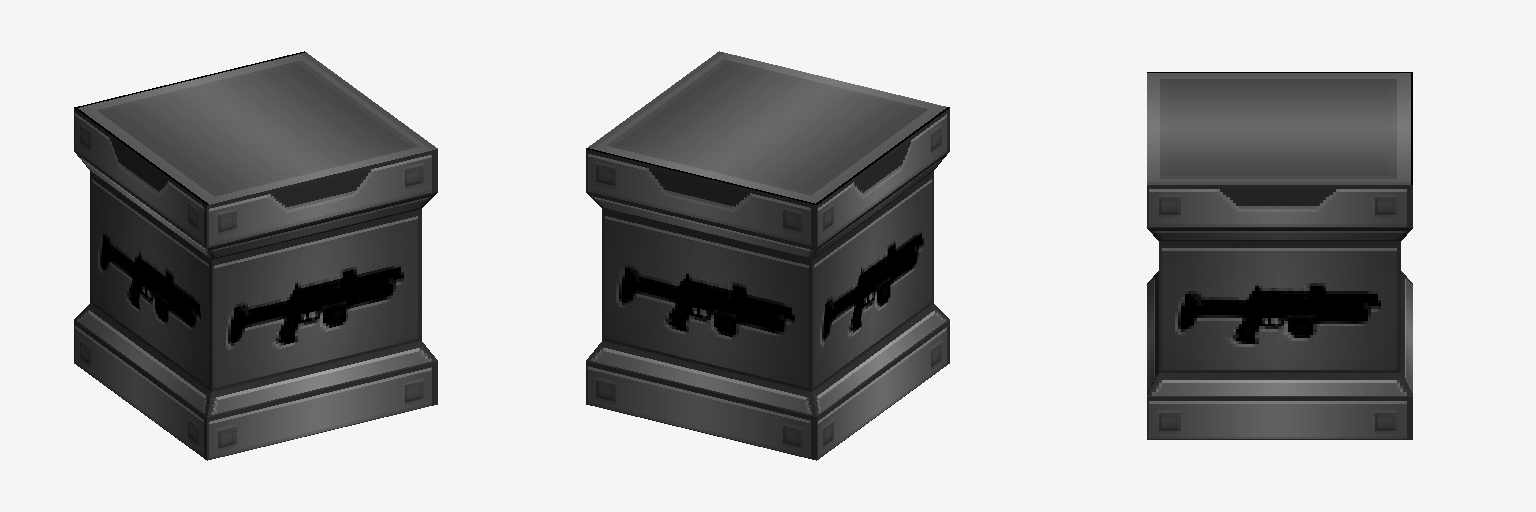
3 views of the same model, side by side, from view 1: azimuth 30°, elevation 25°; view 2: azimuth 150°, elevation 25°; view 3: azimuth 270°, elevation 25° (orthographic).
Parts seen in each view (by area): view 1: Cube_Cube.001; view 2: Cube_Cube.001; view 3: Cube_Cube.001.
Boxes of the visible parts, <box> form: Cube_Cube.001: <box>74,51,437,460</box>; Cube_Cube.001: <box>586,51,949,460</box>; Cube_Cube.001: <box>1147,72,1412,439</box>.
Size of the model in its own units: 2.2 by 2.32 by 2.2.
1 materials, 1 textured.